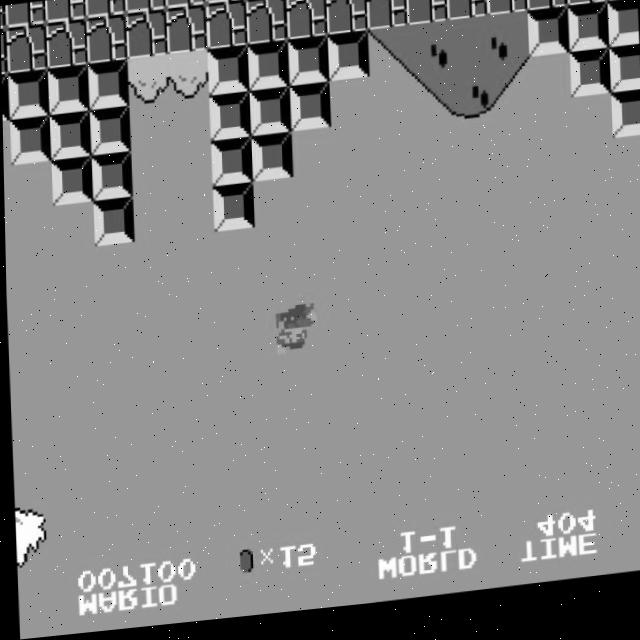11- little_mario: (271, 309, 316, 363)
17- undestructible_block: (5, 23, 48, 74), (44, 19, 87, 70), (84, 15, 127, 66), (124, 11, 167, 62), (204, 3, 247, 54), (164, 8, 207, 58), (244, 0, 287, 50), (284, 0, 327, 46), (324, 0, 367, 42), (364, 0, 407, 38), (404, 0, 447, 34), (444, 0, 487, 30), (484, 0, 527, 26), (4, 1, 45, 28), (44, 0, 85, 24), (524, 0, 567, 22), (84, 0, 125, 20), (564, 0, 607, 18), (124, 0, 165, 16), (164, 0, 205, 13), (605, 0, 637, 14), (204, 0, 245, 8), (0, 28, 7, 74), (244, 0, 285, 5), (0, 6, 4, 28)
9- hard_block: (6, 69, 49, 120), (46, 65, 89, 116), (86, 61, 129, 112), (211, 186, 254, 237), (206, 49, 249, 100), (286, 41, 329, 92), (568, 59, 611, 110), (8, 115, 51, 165), (49, 157, 92, 207), (48, 111, 91, 161), (91, 198, 134, 248), (88, 107, 131, 157), (209, 141, 252, 191), (208, 95, 251, 145), (249, 137, 292, 187), (248, 91, 291, 141), (246, 46, 289, 96), (288, 87, 331, 137), (326, 38, 369, 88), (526, 18, 569, 68), (566, 14, 609, 64), (89, 153, 132, 202), (608, 56, 640, 105), (607, 11, 638, 60), (610, 102, 640, 151), (1, 74, 8, 120)
